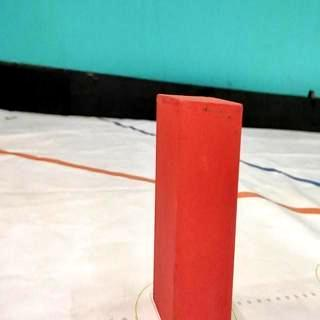redbox: (157, 95, 231, 320)
